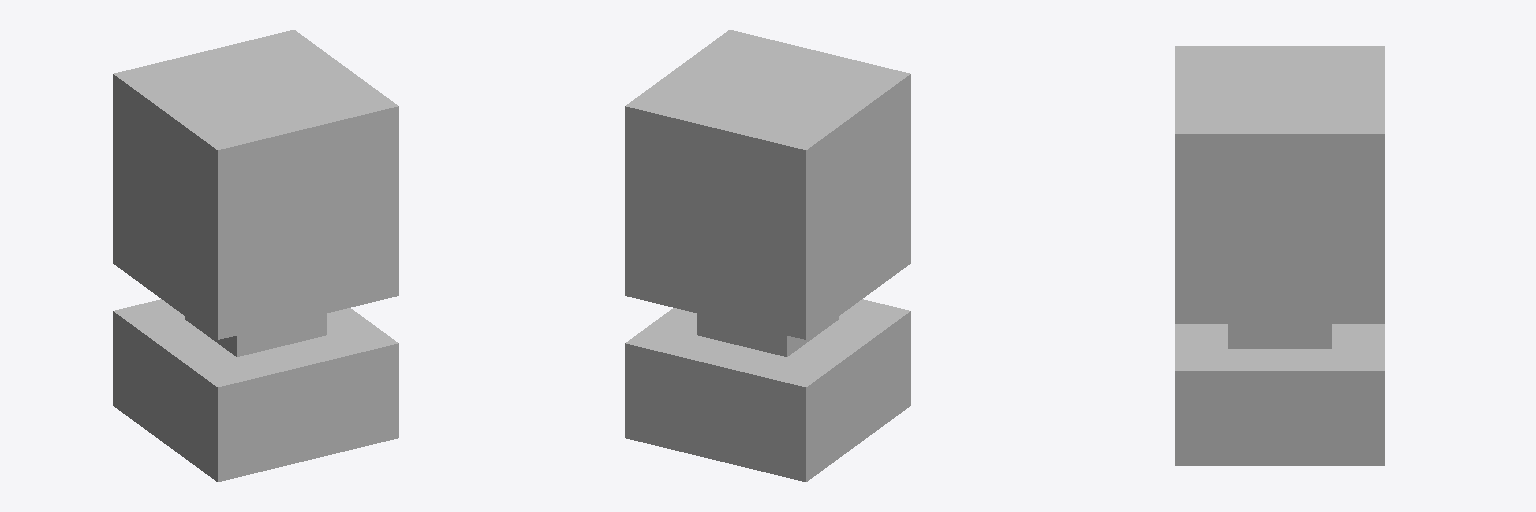
File: rs_controler.obj
The picture shows the model from 3 angles: view 1: azimuth 30°, elevation 25°; view 2: azimuth 150°, elevation 25°; view 3: azimuth 270°, elevation 25°; orthographic projection.
Visible parts, largest first — view 1: cube; view 2: cube; view 3: cube.
Boxes of the visible parts, box(x1,y1,x2,y2) form: cube: box(113, 30, 398, 481); cube: box(625, 30, 910, 481); cube: box(1175, 46, 1384, 465).
Size of the model in its own units: 0.25 by 0.4375 by 0.25.